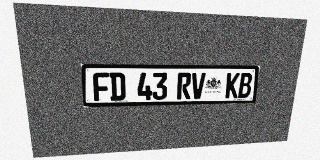3: (152, 73, 167, 100)
4: (137, 73, 152, 100)
B: (238, 73, 253, 98)
D: (109, 72, 125, 101)
F: (93, 72, 110, 101)
K: (225, 73, 240, 98)
R: (177, 73, 191, 99)
V: (191, 73, 206, 99)
